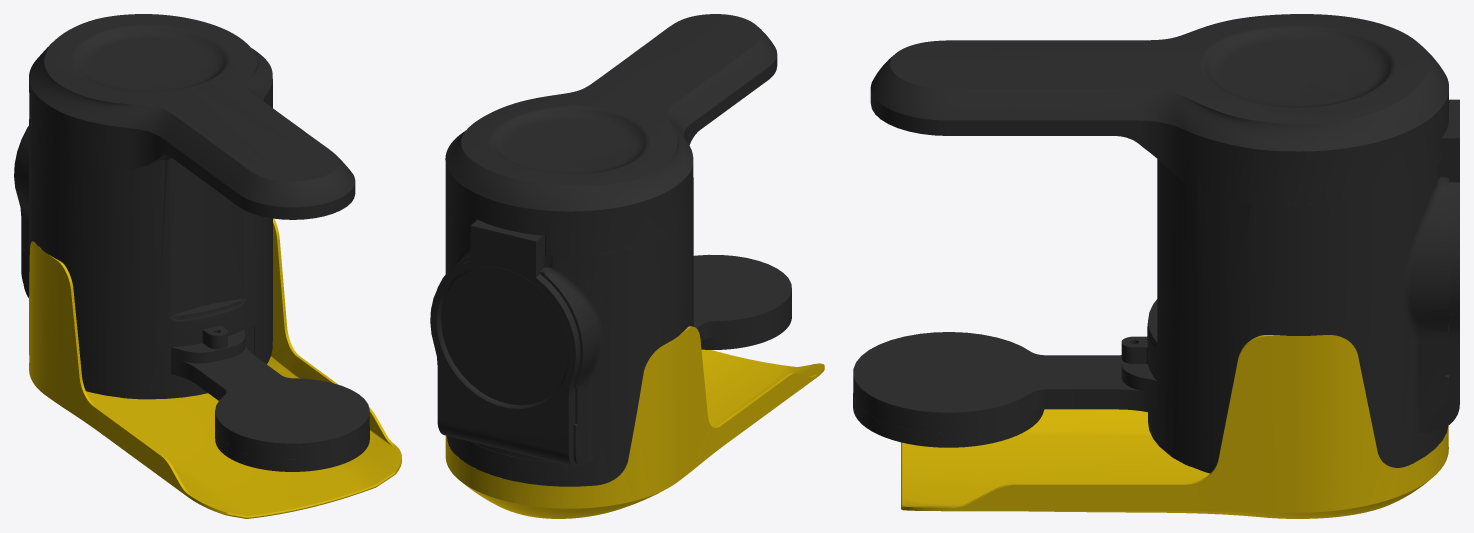
File: armr5.glb
3 views of the same model, side by side, from view 1: azimuth 30°, elevation 25°; view 2: azimuth 150°, elevation 25°; view 3: azimuth 270°, elevation 25° (orthographic). The views are drawn at different scales.
Visible parts, largest first — view 1: Exported from Blender-3.0.1; view 2: Exported from Blender-3.0.1; view 3: Exported from Blender-3.0.1.
Boxes of the visible parts, x1,y1,x2,y2 form: Exported from Blender-3.0.1: (14, 14, 401, 518); Exported from Blender-3.0.1: (430, 14, 824, 518); Exported from Blender-3.0.1: (853, 14, 1459, 518).
Bounding box in the file's own units: 0.082 × 0.1246 × 0.165.
